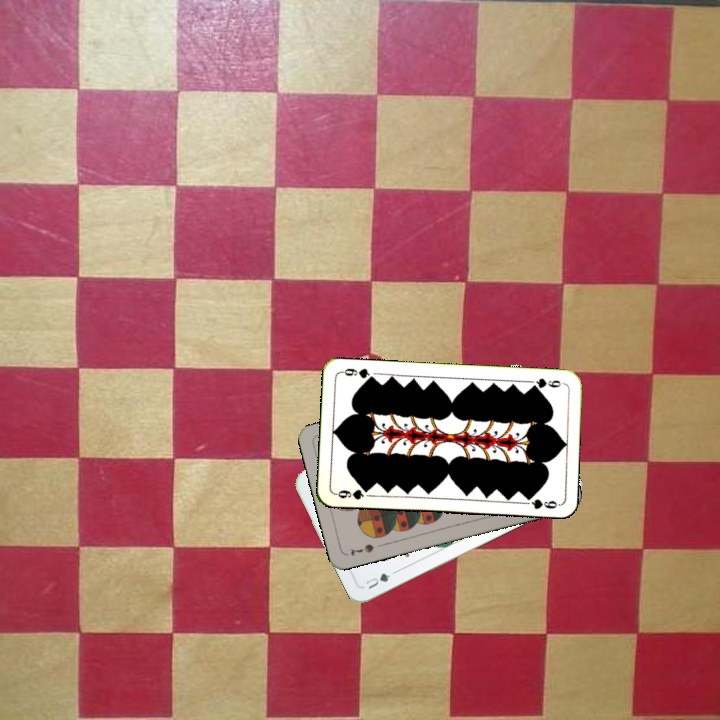G9: (332, 484, 373, 502), (527, 374, 566, 391)
GU: (361, 569, 393, 592)
S7: (346, 540, 377, 558)
